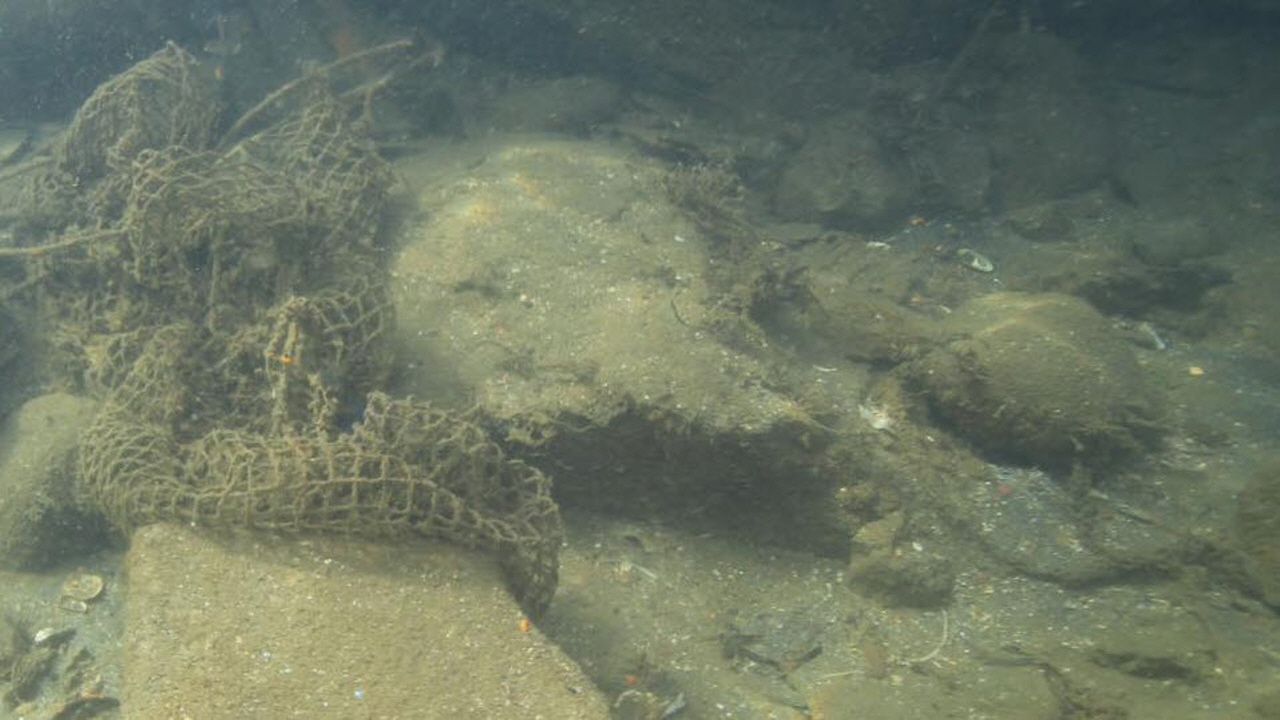fish net: (29, 38, 563, 624)
